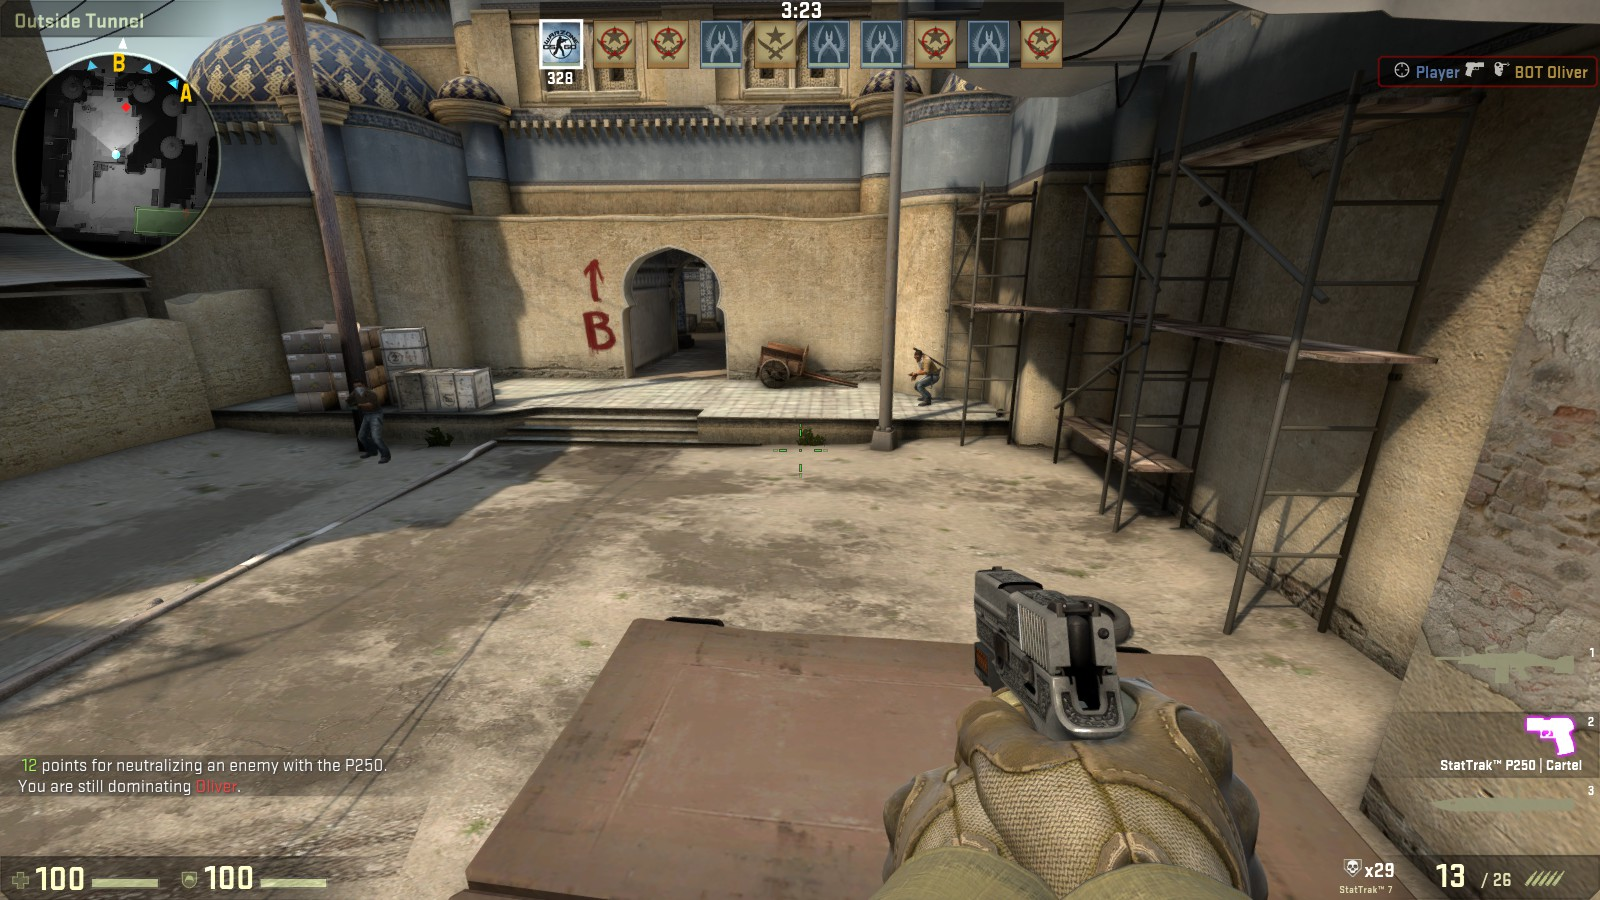t: (345, 382, 393, 462), (904, 345, 946, 408)
th: (349, 380, 371, 397), (913, 348, 924, 363)
